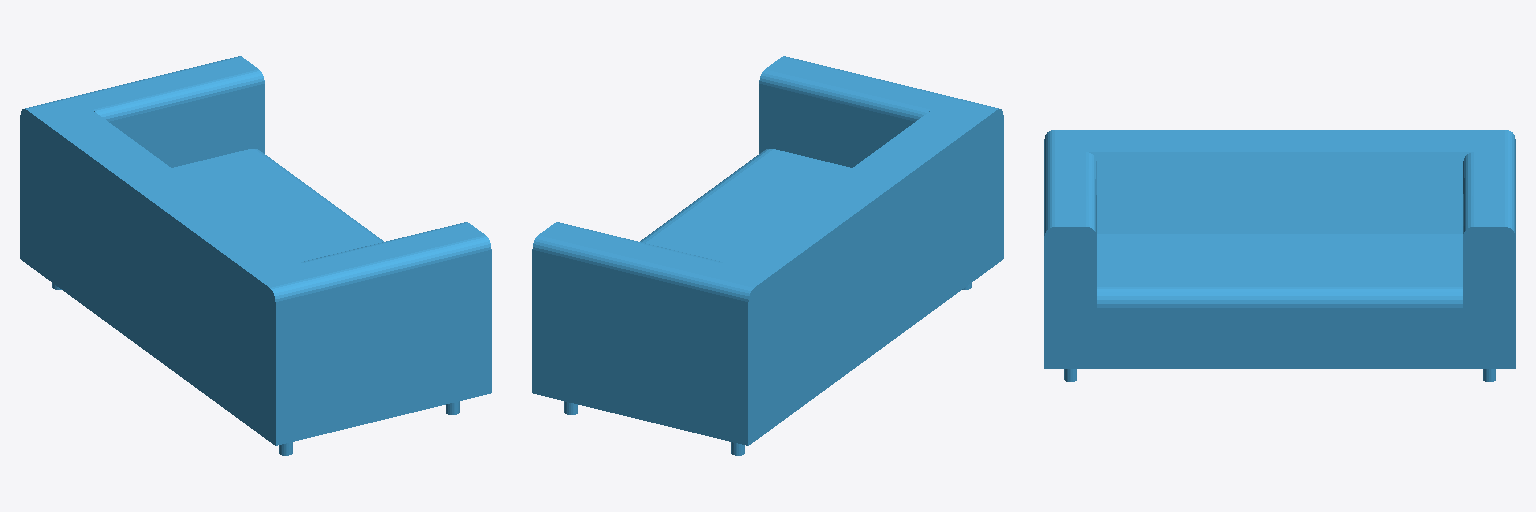
URDF robot description (couch_robot):
<?xml version="1.0" ?>
<robot name="couch_robot" xmlns:xacro="http://ros.org/wiki/xacro">

    <link name="world" />

    <link name="couch_link">
        <visual>
            <origin rpy="0 0 0" xyz="-1.5575628280639648 1.7635917663574219 -0.9648744463920593"/>
            <geometry>
                <mesh filename="klippan_sofa.obj" scale="0.001 0.001 0.001"/>
            </geometry>
        </visual>
        <collision>
            <origin rpy="0 0 0" xyz="-1.5575628280639648 1.7635917663574219 -0.9648744463920593"/>
            <geometry>
                <mesh filename="klippan_sofa.obj" scale="0.001 0.001 0.001"/>
            </geometry>
        </collision>
        <inertial>
            <mass value="30.455"/>
            <origin xyz="0 0 0"/>
            <inertia ixx="0.6022" ixy="-0.02364" ixz="-0.1197" iyy="1.7386" iyz="-0.001544" izz="2.0296"/>
        </inertial>
    </link>

    <joint name="joint_structure" type="fixed">
        <origin xyz="1.100 -1.850 -2.100" rpy="1.57079 0 0" />
        <parent link="world" />
        <child link="couch_link" />
    </joint>

</robot>

--- What the picture shows (computed from the rendered views, not written in the file) ---
3 views of the same robot in one strip: view 1: azimuth 30°, elevation 25°; view 2: azimuth 150°, elevation 25°; view 3: azimuth 270°, elevation 25° (orthographic).
Model couch_robot with 2 links and 1 joints (1 fixed), rooted at world, posed all joints at 0.
Links seen in each view (by area): view 1: couch_link; view 2: couch_link; view 3: couch_link.
Boxes of the visible links, x1,y1,x2,y2 form: couch_link: [20, 56, 491, 455]; couch_link: [532, 56, 1003, 455]; couch_link: [1044, 130, 1515, 381].
Bounding box of the posed robot: 0.88 × 1.8 × 0.69 m (x, y, z).
Meshes: 1 distinct files referenced, 1 mesh visuals loaded (1 OBJ).